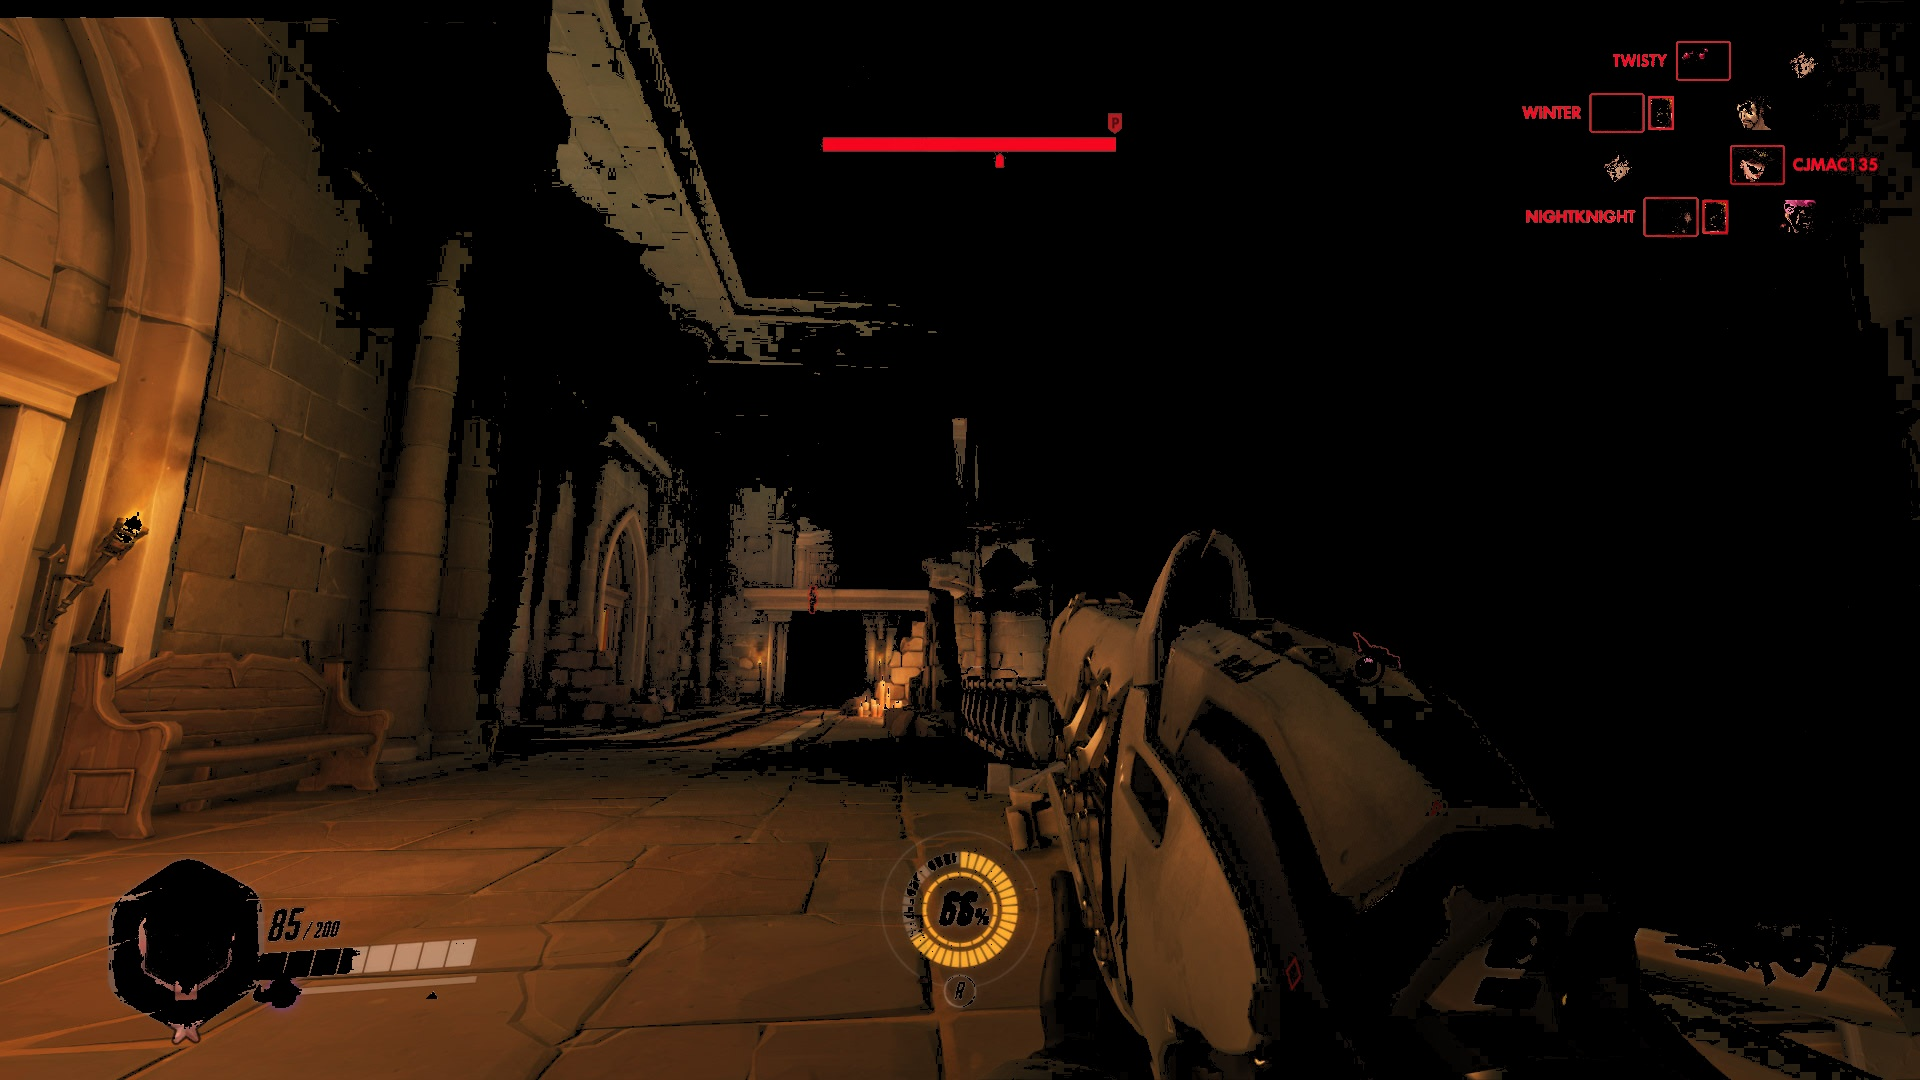widowmaker: (807, 585, 819, 615)
